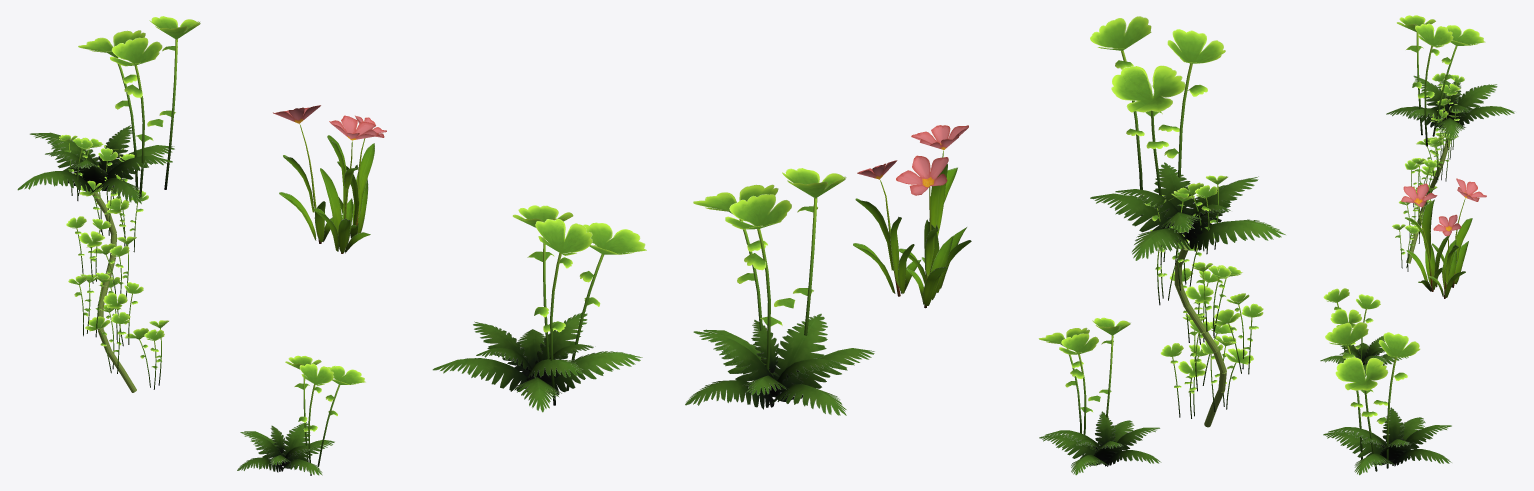
The model's file is Dry_Stone_Wall_Greenery.glb.
3 views of the same model, side by side, from view 1: azimuth 30°, elevation 25°; view 2: azimuth 150°, elevation 25°; view 3: azimuth 270°, elevation 25° (orthographic). The views are drawn at different scales.
Visible parts, largest first — view 1: Patch_00, Patch_01, Patch_03, Patch_02; view 2: Patch_00, Patch_01, Patch_03, Patch_02; view 3: Patch_00, Patch_01, Patch_03, Patch_02.
Boxes of the visible parts, x1,y1,x2,y2 form: Patch_00: (17, 16, 200, 392); Patch_01: (432, 205, 646, 412); Patch_03: (273, 105, 386, 253); Patch_02: (237, 355, 365, 475); Patch_00: (1090, 16, 1286, 427); Patch_01: (685, 168, 874, 415); Patch_03: (853, 125, 971, 308); Patch_02: (1038, 317, 1161, 475); Patch_00: (1386, 15, 1515, 271); Patch_01: (1323, 322, 1451, 475); Patch_03: (1401, 178, 1486, 298); Patch_02: (1320, 288, 1410, 376).
Size of the model in its own units: 3.03 by 2.19 by 1.25.
Materials: 5 (4 with a texture image).
